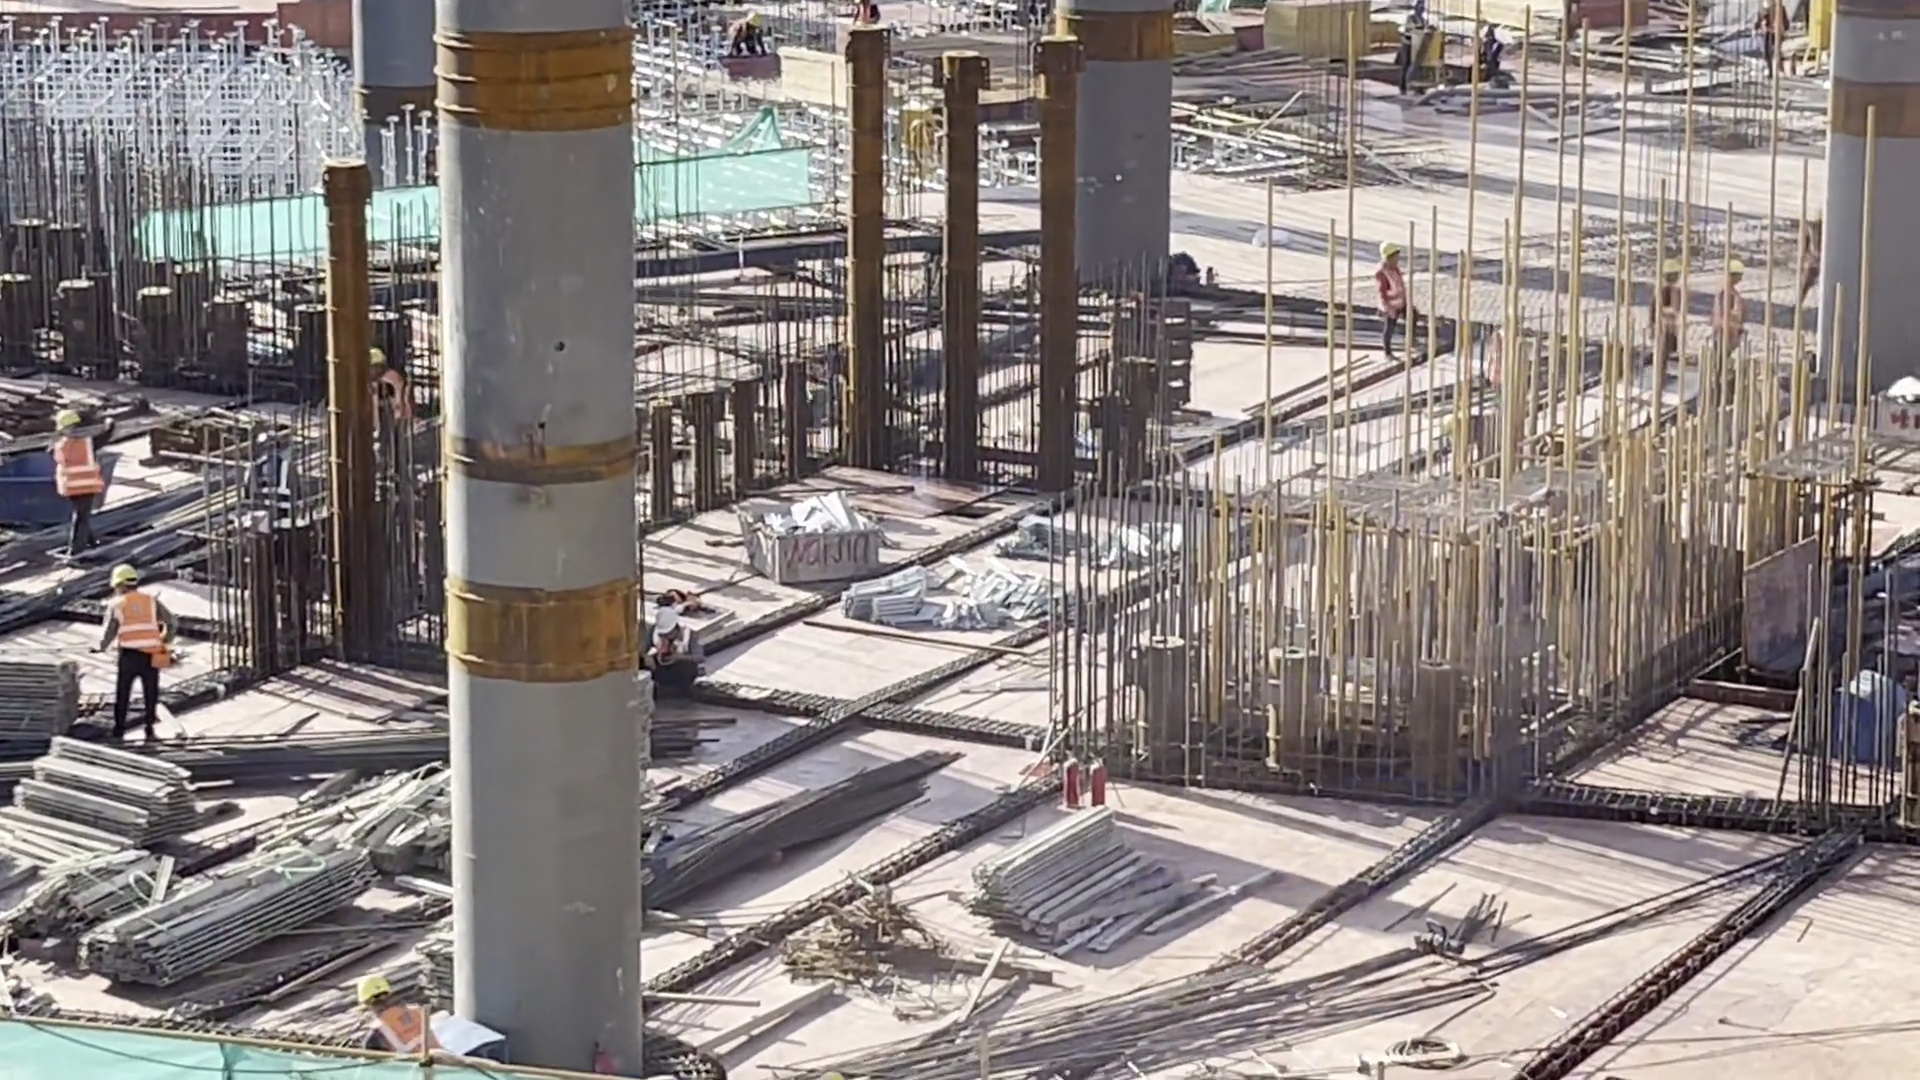helmet: (343, 967, 392, 1002), (258, 413, 299, 448), (111, 557, 160, 583), (49, 411, 96, 435), (1374, 235, 1411, 264), (655, 604, 675, 637)
person: (81, 546, 184, 750), (34, 398, 119, 565), (1351, 226, 1433, 378), (241, 405, 315, 545), (344, 967, 448, 1064), (647, 579, 703, 716), (370, 345, 429, 465), (1708, 245, 1751, 390), (1649, 239, 1684, 363), (711, 5, 771, 67), (1460, 17, 1519, 71), (1401, 1, 1438, 69)
vest: (373, 997, 449, 1065), (43, 424, 110, 501), (114, 589, 170, 664), (245, 449, 301, 517), (1366, 263, 1411, 316)
